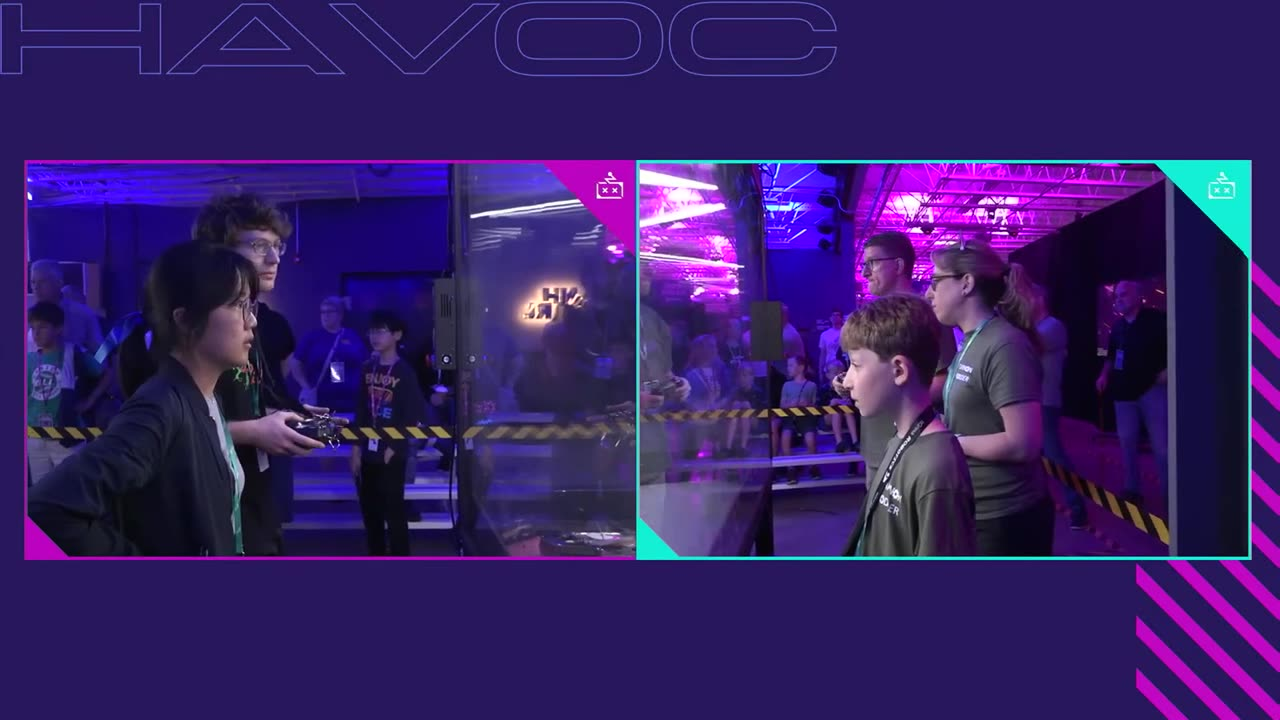combatbot: (540, 525, 636, 556)
